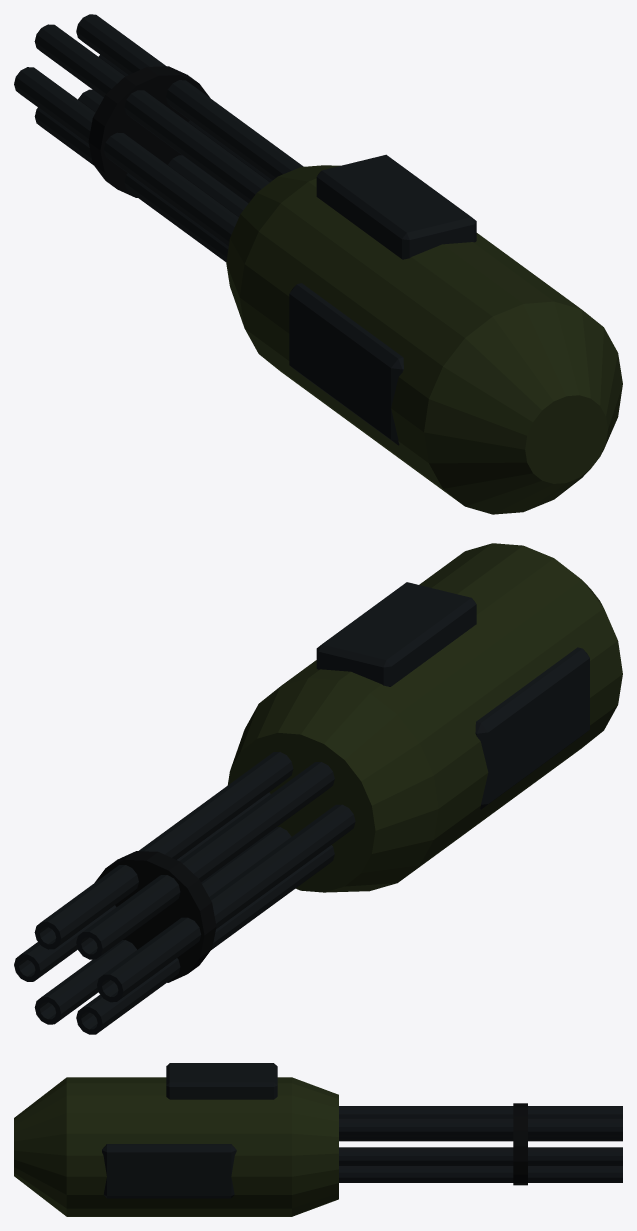
The model's file is Cannon20.obj.
The picture shows the model from 3 angles, top to bottom: view 1: azimuth 30°, elevation 25°; view 2: azimuth 150°, elevation 25°; view 3: azimuth 270°, elevation 25°; orthographic projection. The views are drawn at different scales.
Parts seen in each view (by area): view 1: Pod_shell, Access_blister, Mount_lug, Barrel_03, Barrel_04, Barrel_02, Rotor_barrel_clamp.001, Barrel_05, Barrel_06; view 2: Pod_shell, Access_blister, Mount_lug, Barrel_03, Barrel_04, Barrel_02, Rotor_barrel_clamp.001, Barrel_06, Barrel_05, Barrel_01; view 3: Pod_shell, Access_blister.001, Barrel_01, Barrel_02, Barrel_06, Mount_lug, Barrel_03, Barrel_04, Rotor_barrel_clamp.001.
Boxes of the visible parts, left/top/right/bottom form: Pod_shell: left=226, top=165, right=622, bottom=514; Access_blister: left=289, top=283, right=403, bottom=445; Mount_lug: left=316, top=154, right=476, bottom=259; Barrel_03: left=34, top=24, right=269, bottom=203; Barrel_04: left=14, top=67, right=238, bottom=246; Barrel_02: left=76, top=14, right=303, bottom=180; Rotor_barrel_clamp.001: left=88, top=66, right=209, bottom=197; Barrel_05: left=34, top=107, right=228, bottom=261; Barrel_06: left=78, top=89, right=248, bottom=216; Pod_shell: left=227, top=543, right=622, bottom=892; Access_blister: left=475, top=647, right=589, bottom=809; Mount_lug: left=316, top=582, right=476, bottom=686; Barrel_03: left=76, top=762, right=334, bottom=959; Barrel_04: left=97, top=804, right=355, bottom=1002; Barrel_02: left=34, top=752, right=293, bottom=949; Rotor_barrel_clamp.001: left=94, top=851, right=216, bottom=982; Barrel_06: left=34, top=827, right=291, bottom=1024; Barrel_05: left=76, top=845, right=334, bottom=1034; Barrel_01: left=14, top=792, right=270, bottom=981; Pod_shell: left=14, top=1077, right=338, bottom=1216; Access_blister.001: left=102, top=1144, right=236, bottom=1198; Barrel_01: left=339, top=1147, right=622, bottom=1165; Barrel_02: left=339, top=1118, right=622, bottom=1136; Barrel_06: left=339, top=1166, right=622, bottom=1182; Mount_lug: left=166, top=1063, right=277, bottom=1099; Barrel_03: left=339, top=1106, right=622, bottom=1118; Barrel_04: left=339, top=1137, right=622, bottom=1141; Rotor_barrel_clamp.001: left=513, top=1103, right=527, bottom=1185.
Size of the model in its own units: 0.48 by 0.52 by 2.08.
